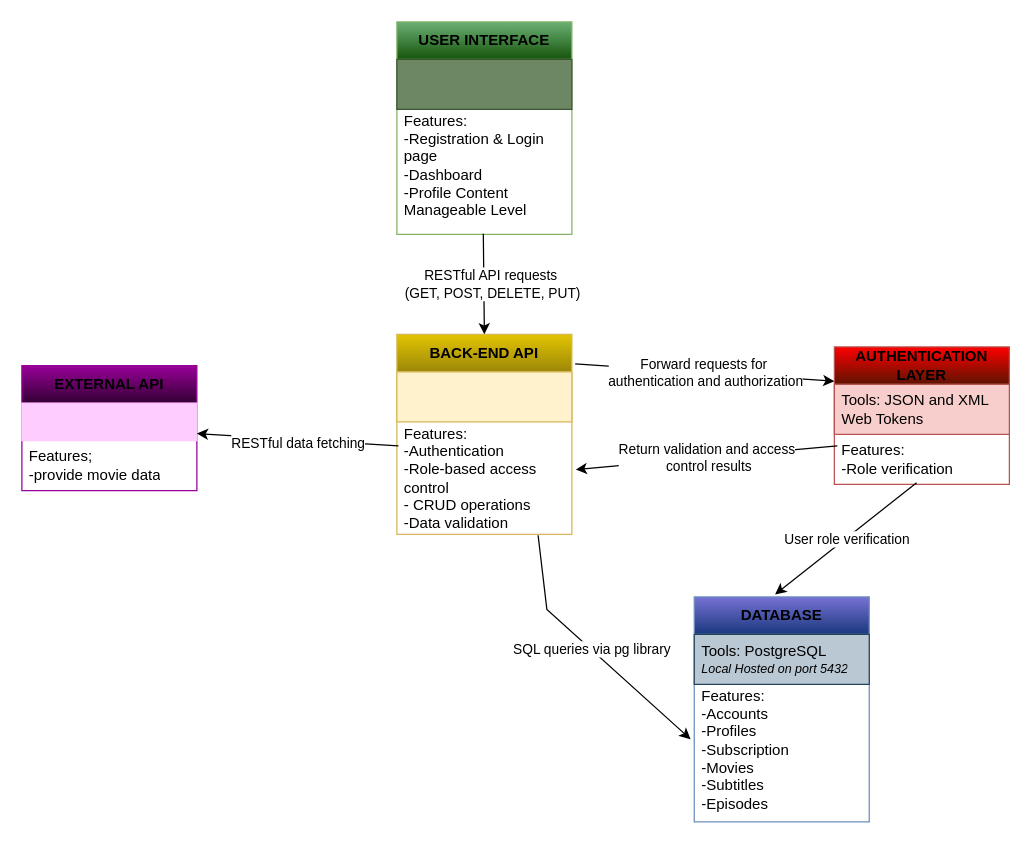
Some shapes in this 1031 by 851 pixel diagram are drawn without their labels. The centre of each missing label's shape, as x and y in pixels:
"Tools: HTML & CSS Local Hosted on port 5500" goes at (x=484, y=83).
"Tools: Node.js Local Hosted on port 3000" goes at (x=484, y=396).
"Tools: TMDB API (The movie database)" goes at (x=109, y=421).
